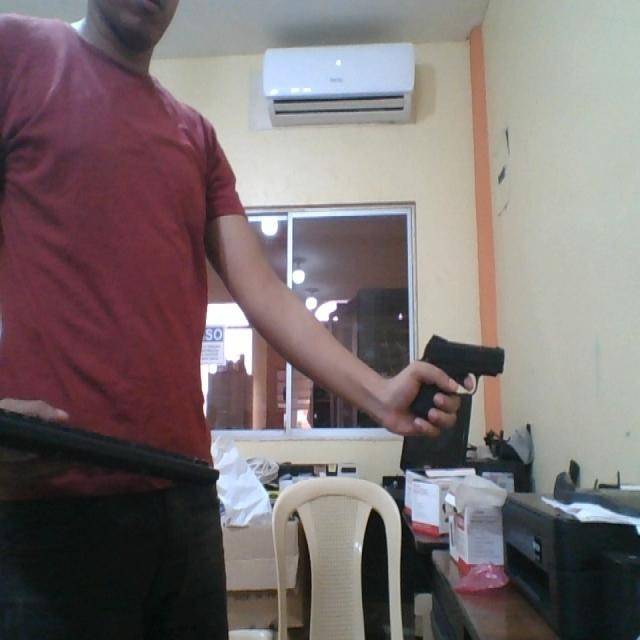weapon: (408, 332, 506, 422)
